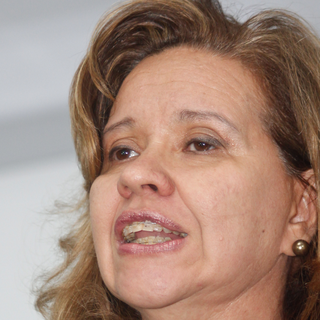eye: (178, 131, 224, 161), (102, 142, 143, 164)
